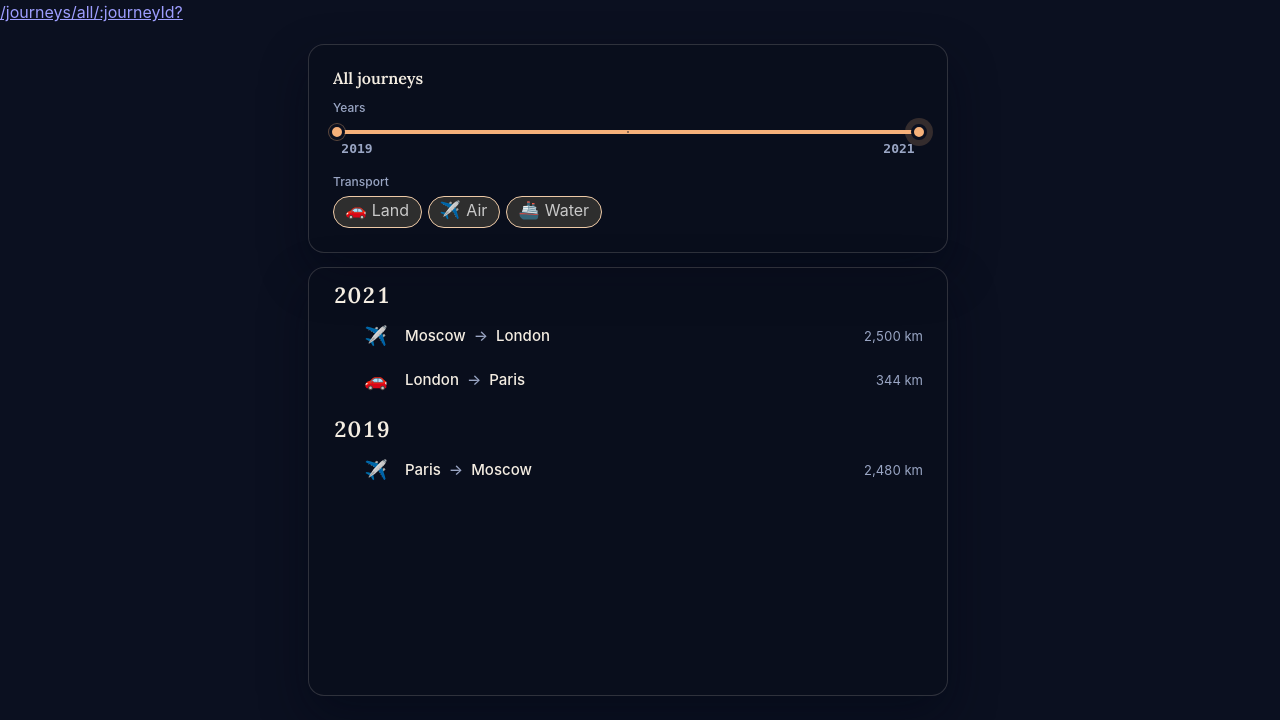
AllJourneysView — удаление из карточки поездки › удалена последняя поездка выбранного года — его нет на шкале, выбор снят и лента показывает все годы
Expected: the element "2021" is shown, [333,268,923,402]
Press Arrowleft Arrowleft
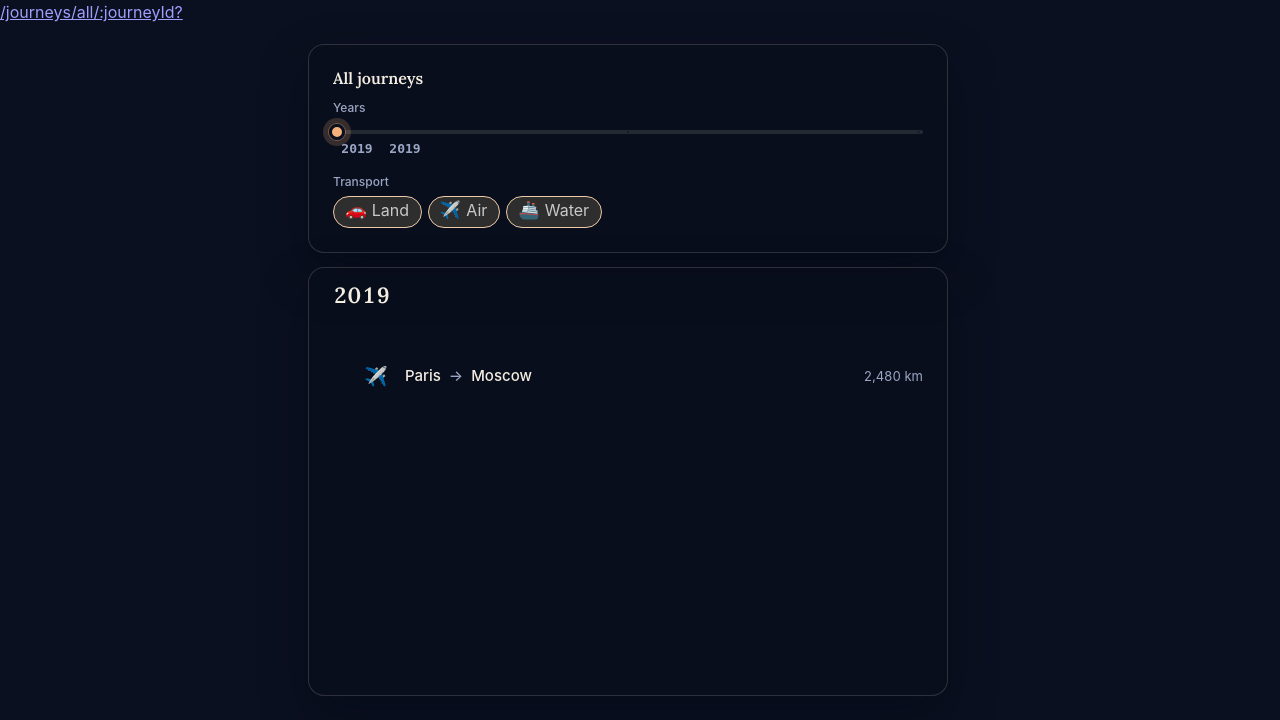
Result: the button "2021" is gone
Click the link named "Paris to Moscow" at coordinates (423, 360), box [365,349,923,371]
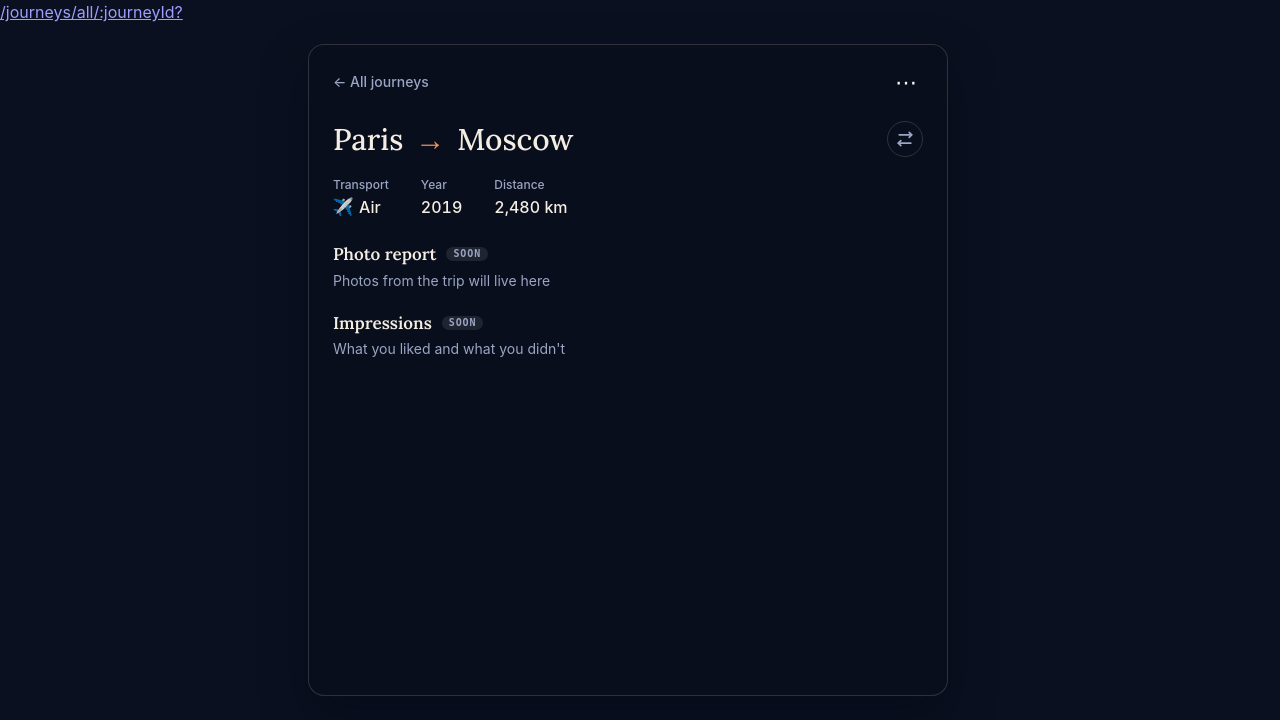
Expected: the heading named "Paris to Moscow" is shown, [327,119,579,175]
Click the button named "More actions" at coordinates (906, 82), box [889,65,923,99]
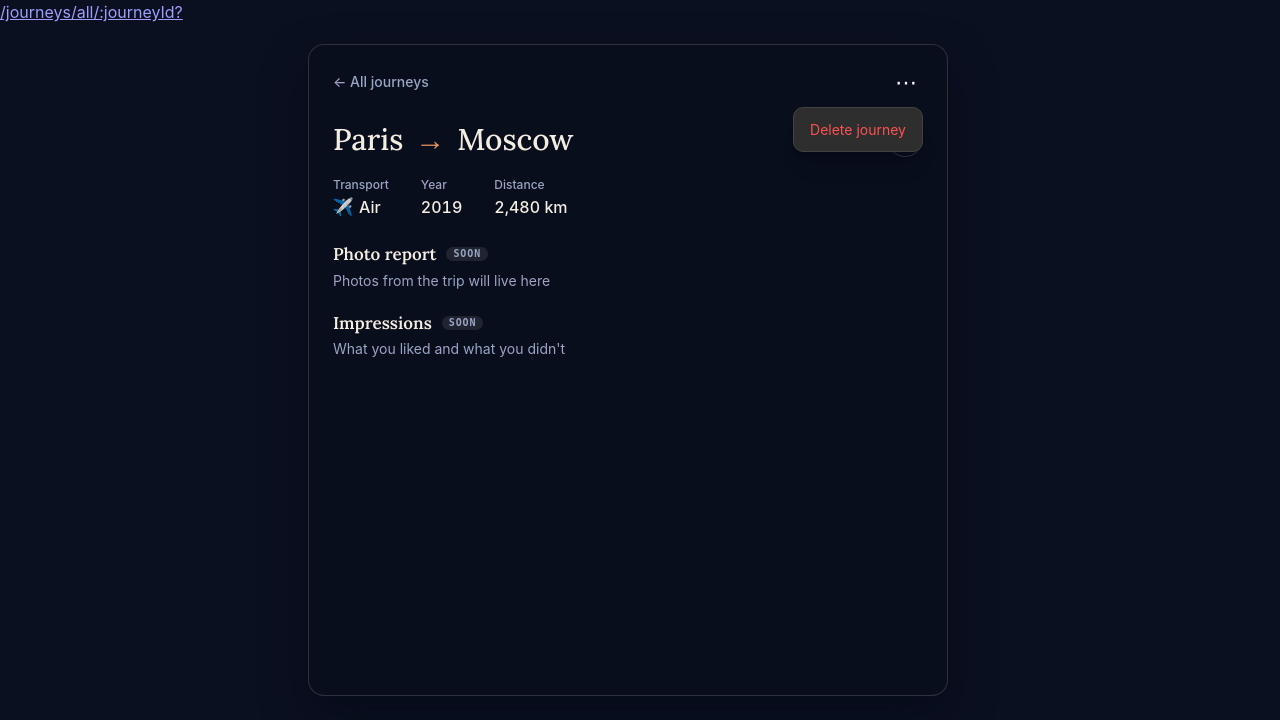
Click the menu item "Delete journey" at coordinates (858, 130), box [798,112,918,147]
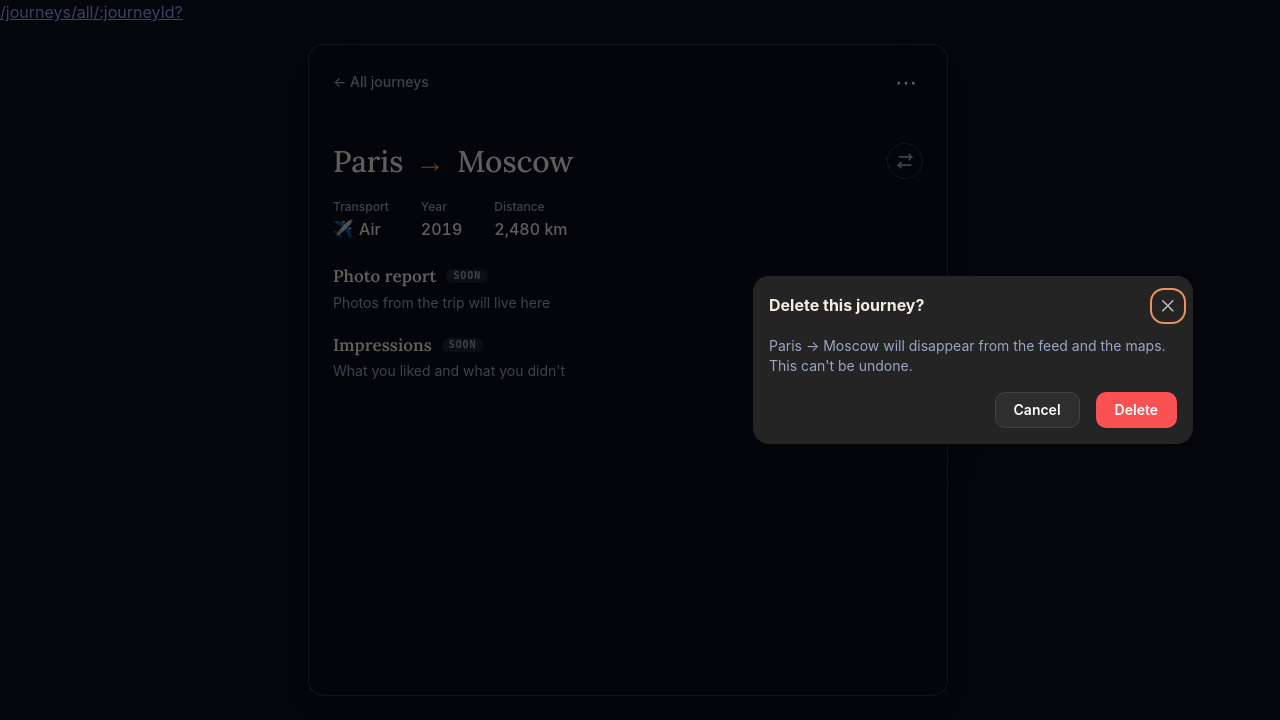
Click the button "Delete" at coordinates (1136, 410), box [1096,392,1177,428]
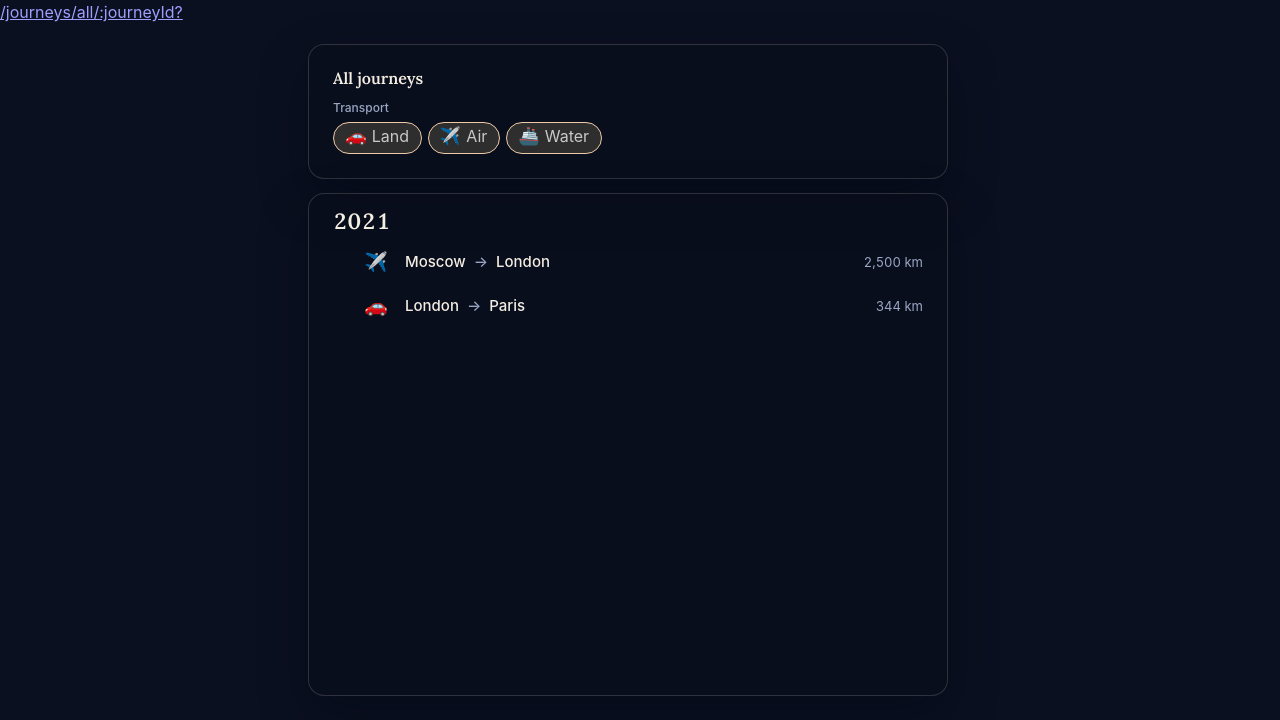
Result: the element "2021" is shown at [333,194,923,328]
Result: the number of list items is 2 at [365,251,923,273]; [365,295,923,317]
